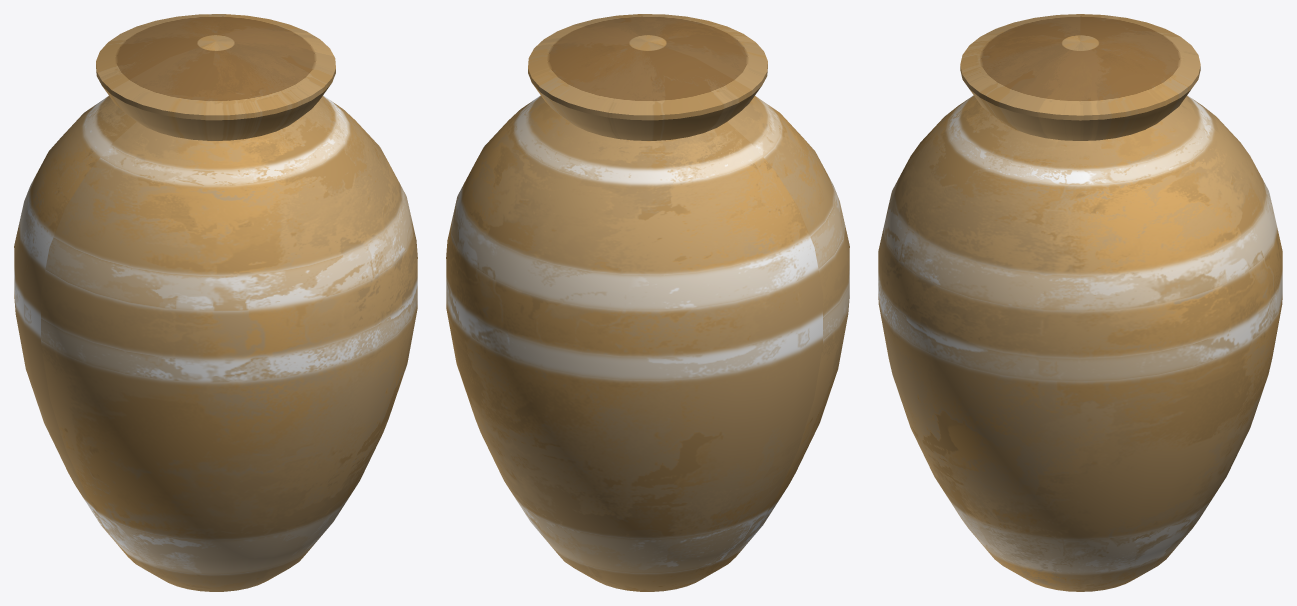
The model's file is MayanVase.fbx.
The picture shows the model from 3 angles, left to right: view 1: azimuth 30°, elevation 25°; view 2: azimuth 150°, elevation 25°; view 3: azimuth 270°, elevation 25°; orthographic projection.
Parts seen in each view (by area): view 1: Sphere; view 2: Sphere; view 3: Sphere.
Boxes of the visible parts, x1,y1,x2,y2 form: Sphere: (14, 14, 417, 591); Sphere: (446, 14, 849, 591); Sphere: (878, 14, 1282, 591).
Bounding box in the file's own units: 635 × 912 × 635.
Materials: 1 (1 with a texture image).
